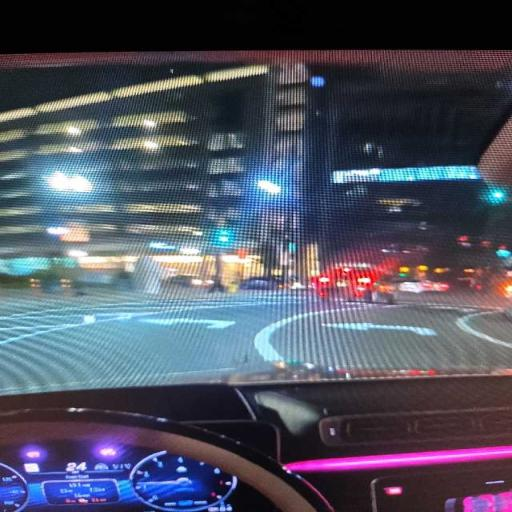car: (0, 50, 511, 511), (398, 280, 450, 292), (166, 275, 214, 287), (240, 277, 281, 289)
lane: (0, 299, 306, 392), (266, 305, 511, 369)
